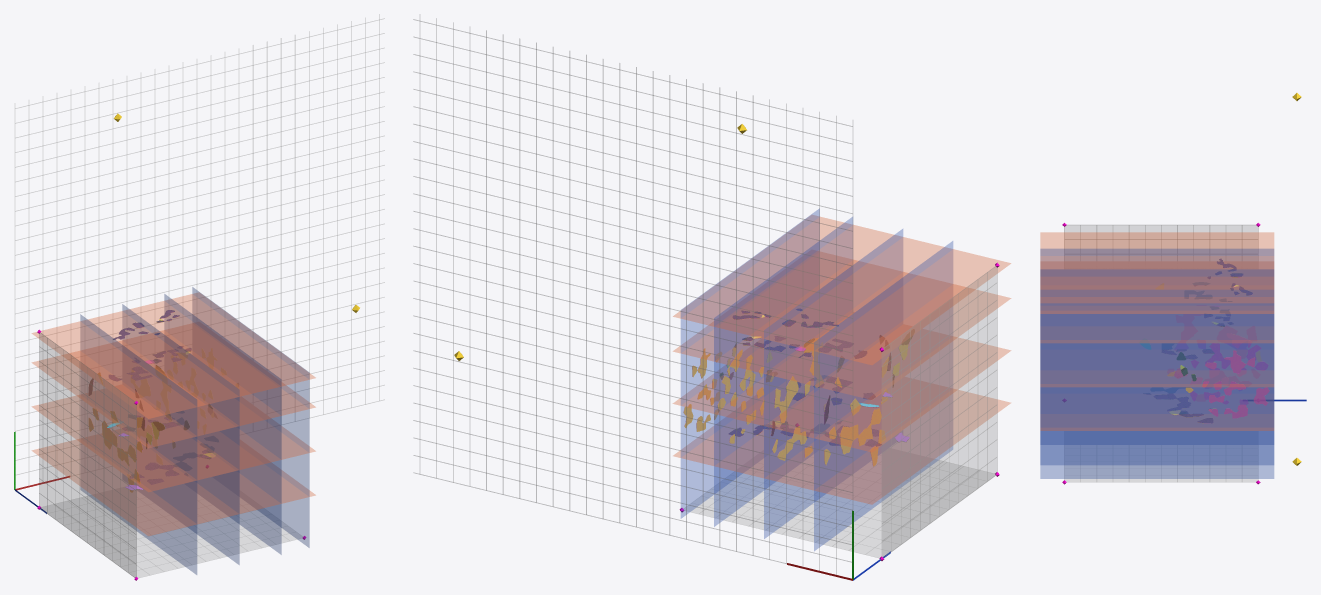
The model's file is shards.obj.
3 renders of one model, left to right at view 1: azimuth 30°, elevation 25°; view 2: azimuth 150°, elevation 25°; view 3: azimuth 270°, elevation 25°, orthographic. The views are drawn at different scales.
Visible parts, largest first — view 1: panel_B3, wall_A, panel_A0, panel_B0, panel_B1, grid_floor, panel_A2, panel_A1, panel_B2, wall_B, panel_A3, Y (+2 smaller); view 2: panel_B3, wall_A, panel_A0, grid_floor, panel_B0, panel_B1, panel_B2, panel_A2, panel_A1, wall_B, panel_A3, Y (+4 smaller); view 3: panel_A3, panel_A2, panel_B3, panel_A1, panel_A0, wall_A, M, panel_B2, panel_B1, panel_B0, wall_B, K (+1 smaller).
Boxes of the visible parts, box(x1,y1,x2,y2) form: panel_B3: box(32, 292, 315, 418); wall_A: box(39, 333, 135, 576); panel_A0: box(80, 314, 196, 574); panel_B0: box(32, 439, 315, 535); panel_B1: box(32, 395, 315, 491); grid_floor: box(15, 14, 384, 489); panel_A2: box(164, 294, 281, 554); panel_A1: box(122, 304, 239, 564); panel_B2: box(32, 330, 315, 447); wall_B: box(42, 496, 301, 577); panel_A3: box(192, 287, 309, 547); Y: box(89, 319, 238, 492); panel_B3: box(673, 215, 1010, 364); wall_A: box(882, 267, 996, 556); panel_A0: box(814, 241, 952, 550); grid_floor: box(413, 18, 852, 574); panel_B0: box(673, 389, 1010, 504); panel_B1: box(673, 337, 1010, 451); panel_B2: box(673, 260, 1010, 399); panel_A2: box(714, 217, 852, 526); panel_A1: box(764, 229, 902, 538); wall_B: box(684, 461, 994, 557); panel_A3: box(681, 208, 819, 518); Y: box(683, 313, 907, 466); panel_A3: box(1040, 303, 1273, 478); panel_A2: box(1040, 290, 1273, 464); panel_B3: box(1040, 232, 1273, 313); panel_A1: box(1040, 269, 1273, 289); panel_A0: box(1040, 249, 1273, 269); wall_A: box(1065, 225, 1257, 247); M: box(1167, 259, 1269, 423); panel_B2: box(1040, 326, 1273, 342); panel_B1: box(1040, 370, 1273, 386); panel_B0: box(1040, 414, 1273, 430); wall_B: box(1065, 466, 1257, 481); K: box(1144, 258, 1252, 422).
Bounding box in the file's own units: 2655 × 2655 × 1650.
